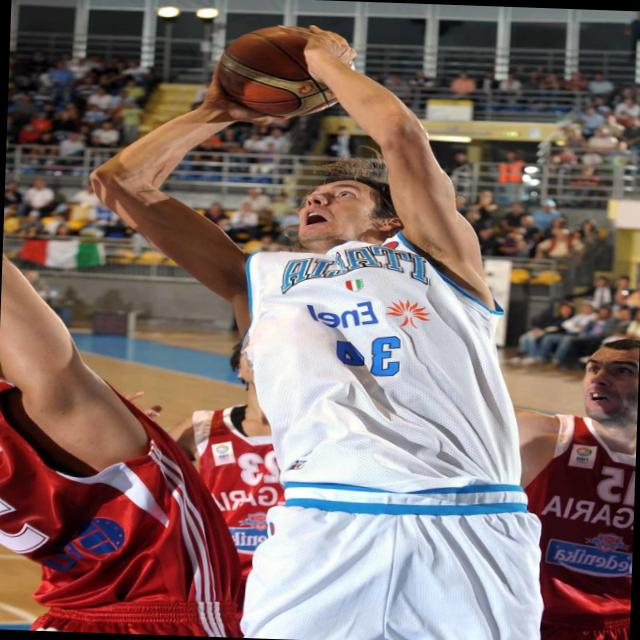Ball: (218, 23, 356, 118)
